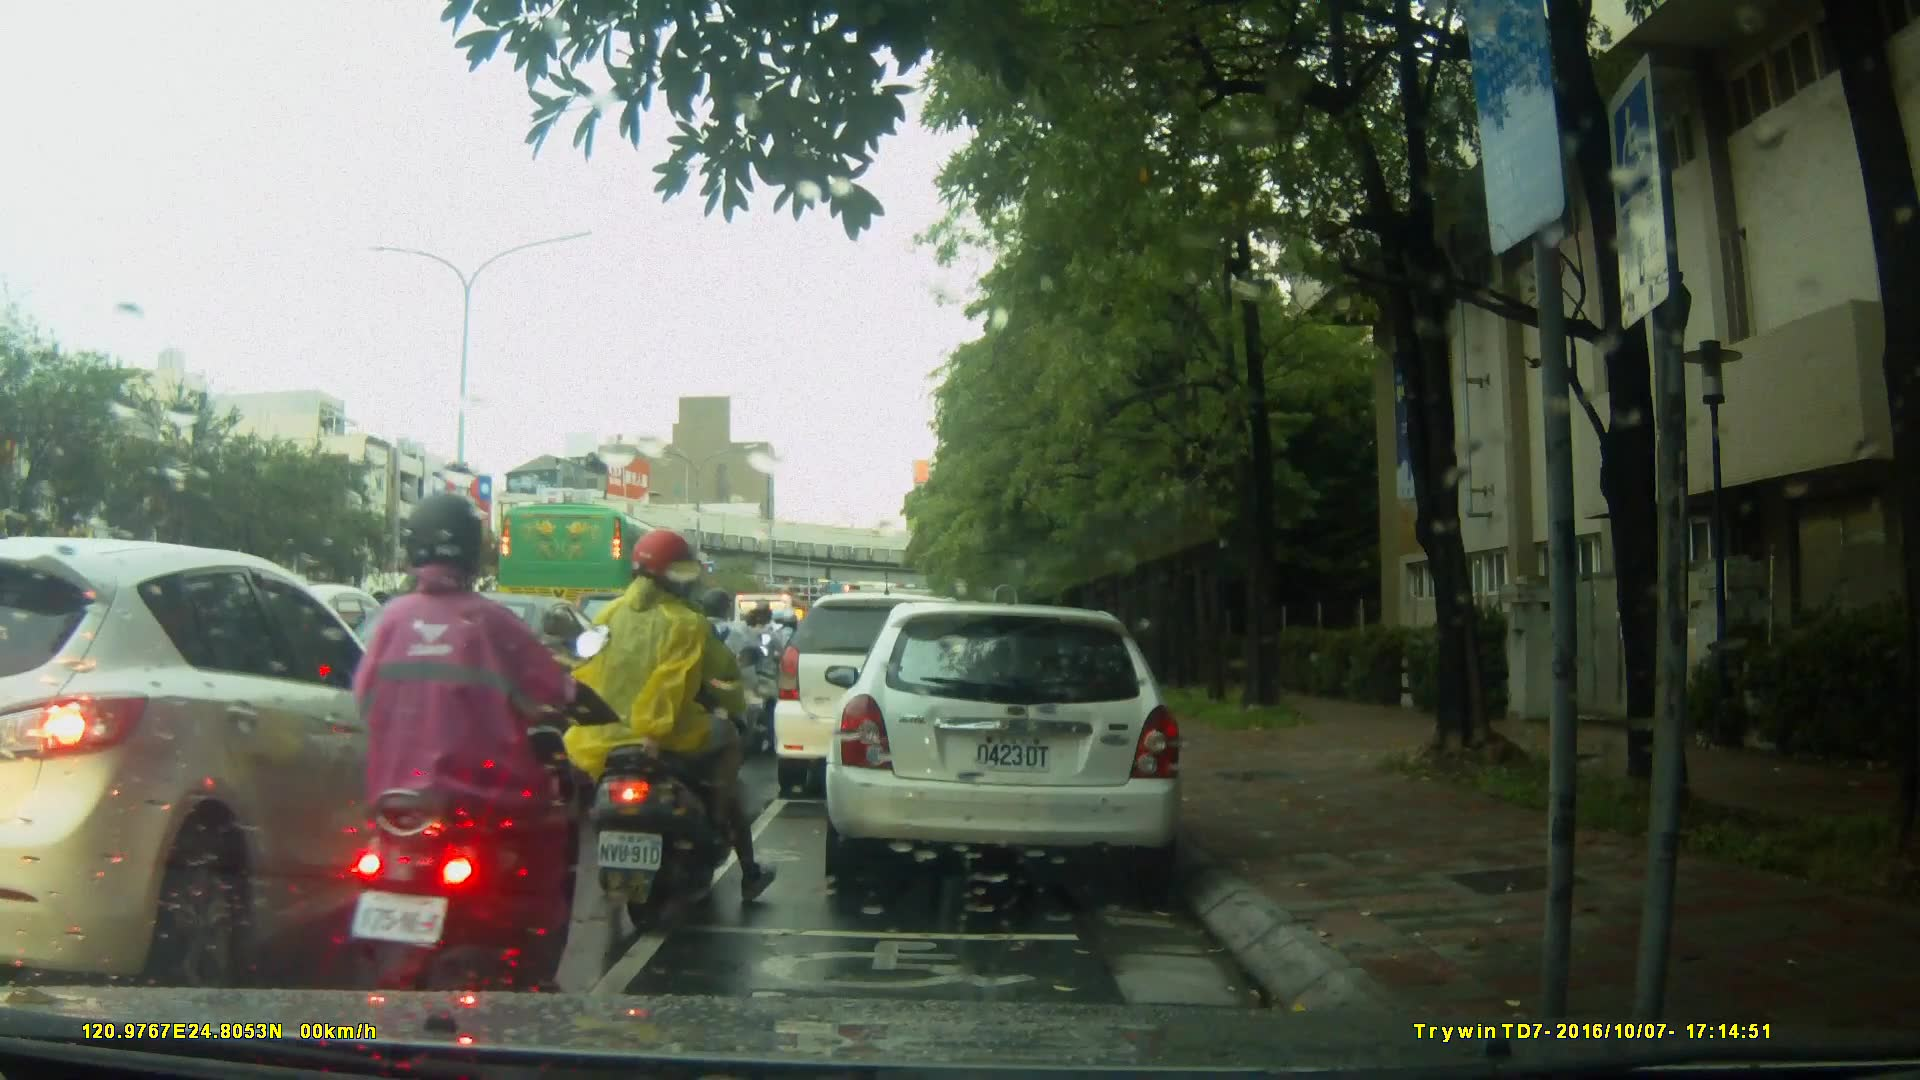rider: (326, 493, 570, 1030), (565, 529, 765, 926), (689, 589, 770, 783), (736, 600, 794, 743)
vehicle: (4, 535, 466, 988), (831, 592, 1196, 897), (318, 589, 629, 776), (770, 590, 999, 804), (495, 499, 710, 636)
